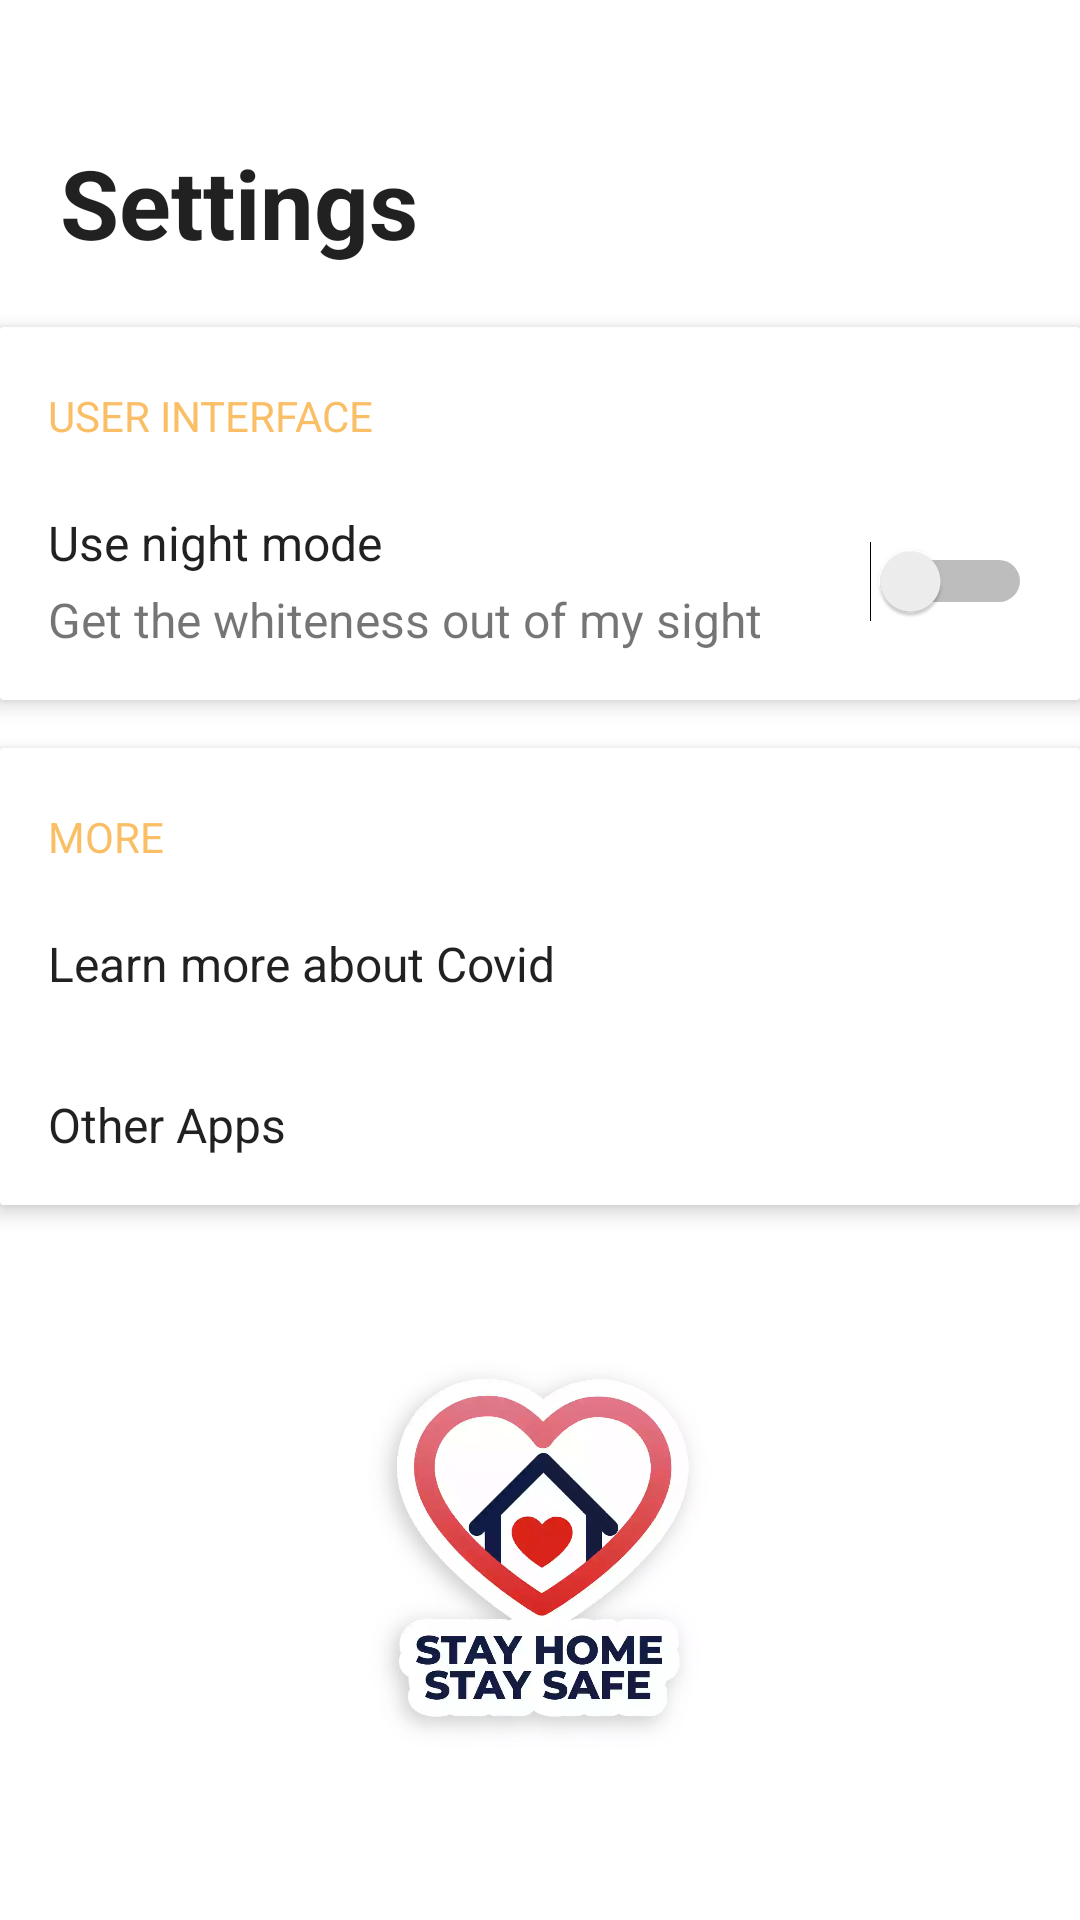

Where to tap for icons on this 1080w x 1920h app screen, as [x,y]:
awareness: [531,1559]
